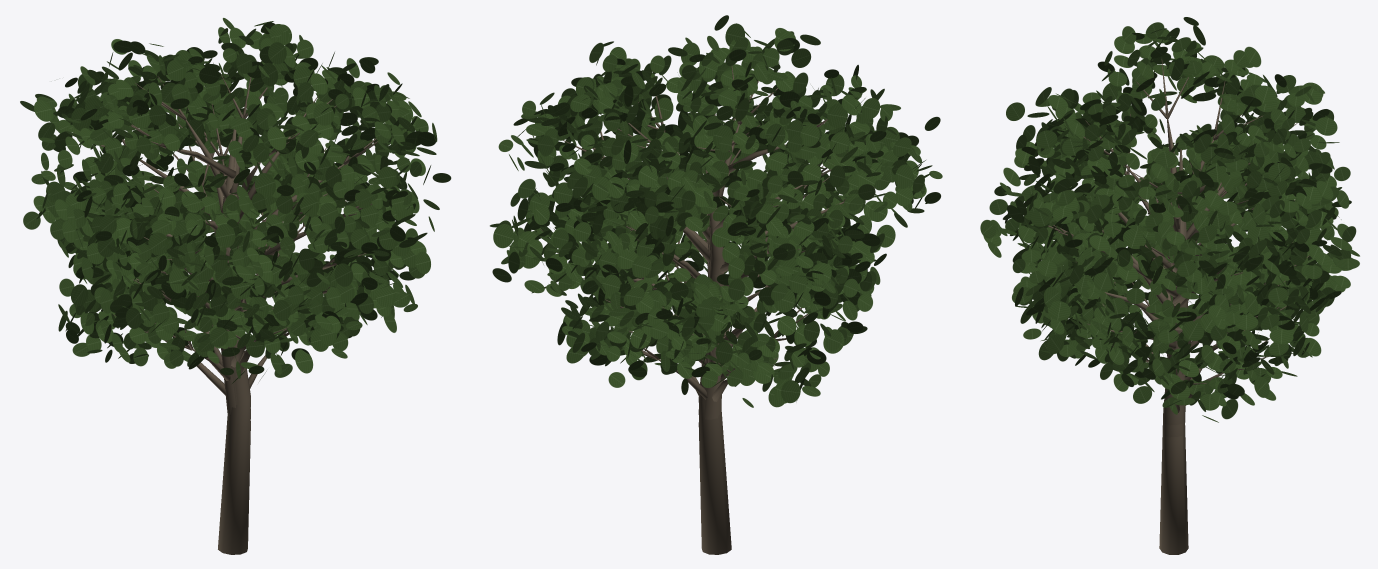
The model's file is background-trees-v1.glb.
3 views of the same model, side by side, from view 1: azimuth 30°, elevation 25°; view 2: azimuth 150°, elevation 25°; view 3: azimuth 270°, elevation 25° (orthographic). The views are drawn at different scales.
Visible parts, largest first — view 1: Broadleaf foliage 2, Broadleaf foliage 1, Broadleaf foliage 0, Broadleaf branch network 2, Broadleaf branch network 1, Broadleaf branch network 0; view 2: Broadleaf foliage 2, Broadleaf foliage 1, Broadleaf foliage 0, Broadleaf branch network 2, Broadleaf branch network 0, Broadleaf branch network 1; view 3: Broadleaf foliage 1, Broadleaf foliage 2, Broadleaf foliage 0, Broadleaf branch network 0, Broadleaf branch network 2, Broadleaf branch network 1.
Boxes of the visible parts, <box> form: Broadleaf foliage 2: <box>20,18,437,383</box>; Broadleaf foliage 1: <box>23,39,451,368</box>; Broadleaf foliage 0: <box>31,54,427,357</box>; Broadleaf branch network 2: <box>100,72,377,554</box>; Broadleaf branch network 1: <box>135,76,388,530</box>; Broadleaf branch network 0: <box>113,104,358,554</box>; Broadleaf foliage 2: <box>498,15,942,387</box>; Broadleaf foliage 1: <box>490,41,900,387</box>; Broadleaf foliage 0: <box>509,93,895,407</box>; Broadleaf branch network 2: <box>563,66,877,554</box>; Broadleaf branch network 0: <box>566,136,829,554</box>; Broadleaf branch network 1: <box>540,96,841,554</box>; Broadleaf foliage 1: <box>980,46,1341,406</box>; Broadleaf foliage 2: <box>1003,17,1351,344</box>; Broadleaf foliage 0: <box>1019,124,1359,422</box>; Broadleaf branch network 0: <box>1087,182,1309,554</box>; Broadleaf branch network 2: <box>1083,59,1297,554</box>; Broadleaf branch network 1: <box>1048,81,1285,540</box>.
Bounding box in the file's own units: 6.32 × 8.27 × 6.13.
2 materials, 1 textured.
